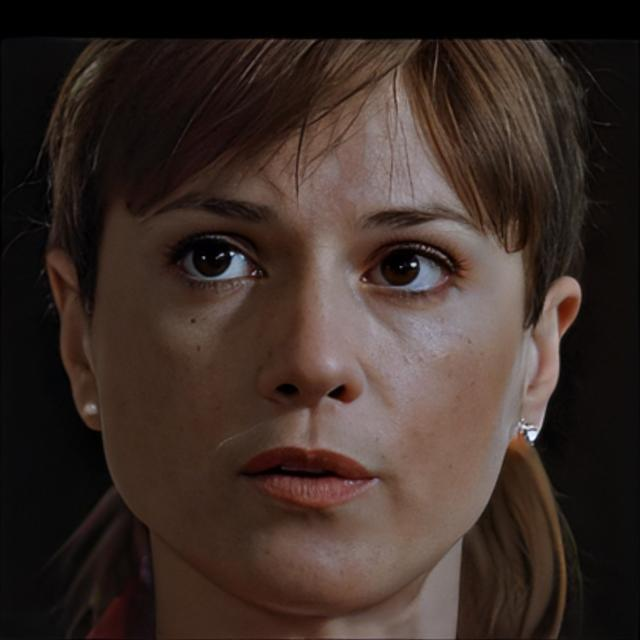surprise: (99, 45, 528, 618)
